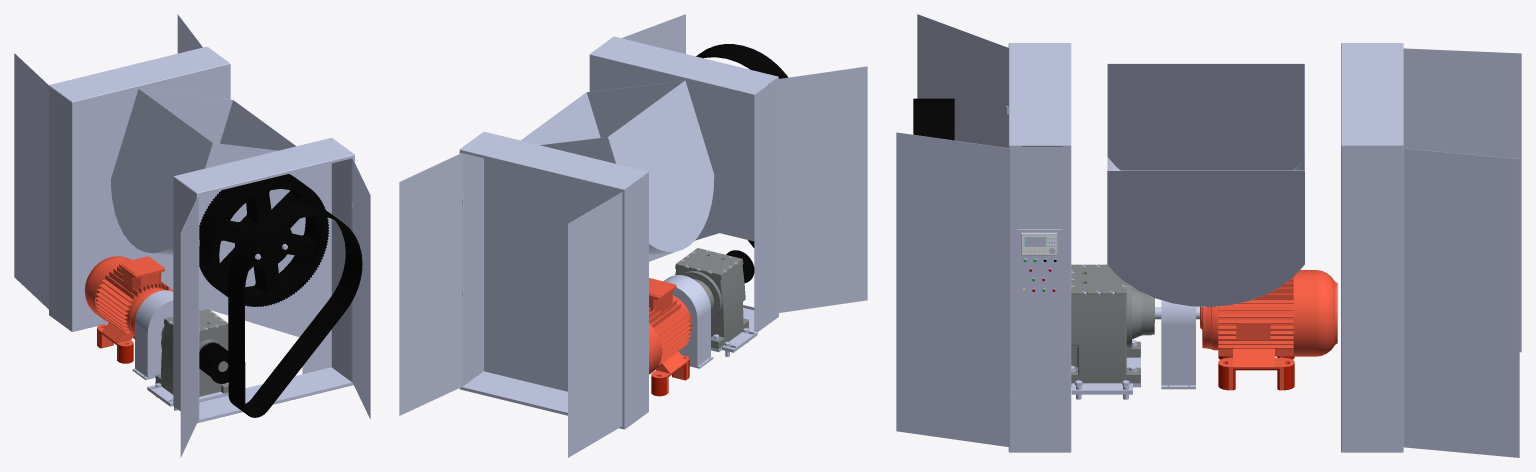
The model's file is general2_FBX.fbx.
3 views of the same model, side by side, from view 1: azimuth 30°, elevation 25°; view 2: azimuth 150°, elevation 25°; view 3: azimuth 270°, elevation 25° (orthographic). The views are drawn at different scales.
Parts seen in each view (by area): view 1: gabinetes laterales, gabinetes laterale derecho, puerta (×4), bolw, dentada grande, banda, 90L, reductor, reductor 2, dentada chica, plancha reductor; view 2: puerta (×4), gabinetes laterales, gabinetes laterale derecho, bolw, 90L, reductor, reductor 2, banda; view 3: puerta (×4), bolw, gabinetes laterales, gabinetes laterale derecho, 90L, reductor, reductor 2, base de panel, banda, pantalla, plancha reductor.
Part boxes in pixels (x1,y1,x2,y2): gabinetes laterales: [49, 46, 230, 331]; gabinetes laterale derecho: [173, 137, 354, 422]; puerta (×4): [14, 14, 370, 457]; bolw: [111, 88, 295, 255]; dentada grande: [199, 174, 328, 306]; banda: [228, 203, 362, 417]; 90L: [84, 256, 173, 363]; reductor: [155, 309, 228, 396]; reductor 2: [132, 290, 173, 379]; dentada chica: [199, 342, 228, 383]; plancha reductor: [147, 382, 228, 406]; puerta (×4): [399, 14, 867, 457]; gabinetes laterales: [459, 131, 648, 429]; gabinetes laterale derecho: [589, 36, 778, 331]; bolw: [521, 80, 714, 254]; 90L: [649, 278, 691, 396]; reductor: [675, 248, 748, 348]; reductor 2: [664, 275, 713, 368]; banda: [696, 44, 788, 247]; puerta (×4): [896, 14, 1521, 457]; bolw: [1107, 63, 1304, 306]; gabinetes laterales: [1341, 43, 1403, 452]; gabinetes laterale derecho: [1008, 43, 1071, 452]; 90L: [1200, 270, 1337, 390]; reductor: [1071, 264, 1154, 383]; reductor 2: [1161, 300, 1195, 389]; base de panel: [1017, 229, 1062, 300]; banda: [913, 98, 954, 140]; pantalla: [1021, 232, 1057, 255]; plancha reductor: [1071, 357, 1140, 394].
Bounding box in the file's own units: 265 × 280 × 481.
